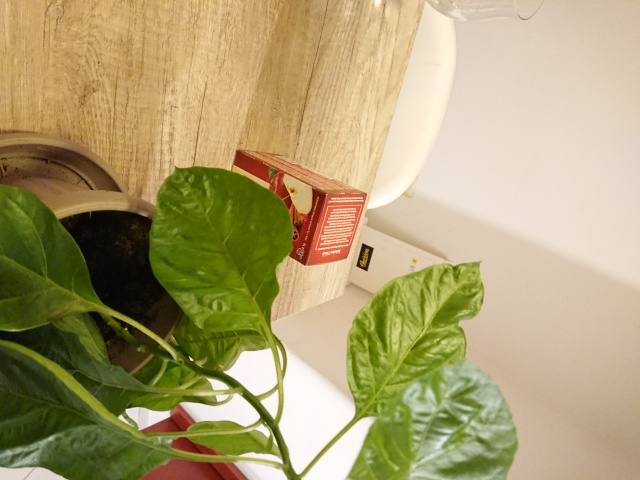Franck Apple Cinnamon Tea 60g: (219, 147, 371, 270)
